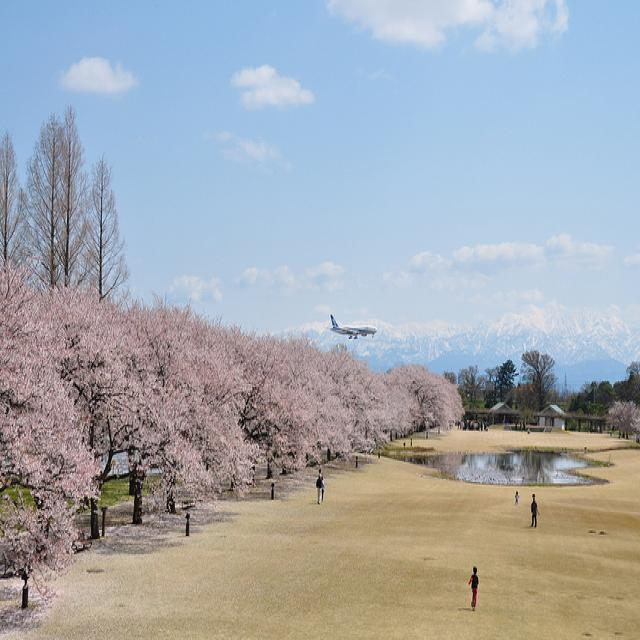airplane: (326, 311, 380, 343)
